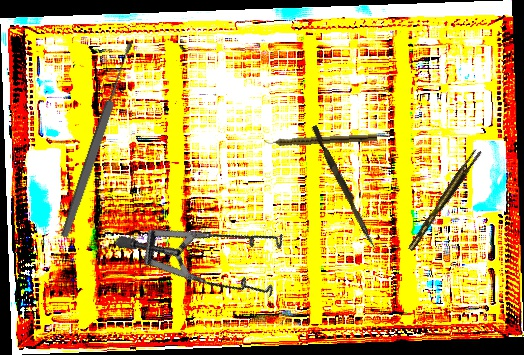Handpiece: (263, 132, 378, 147)
Pusher: (308, 124, 381, 251)
Speculum: (113, 154, 307, 345)
Surgical Spoon: (58, 40, 137, 240)
Tissue Forceps: (402, 147, 486, 252)
